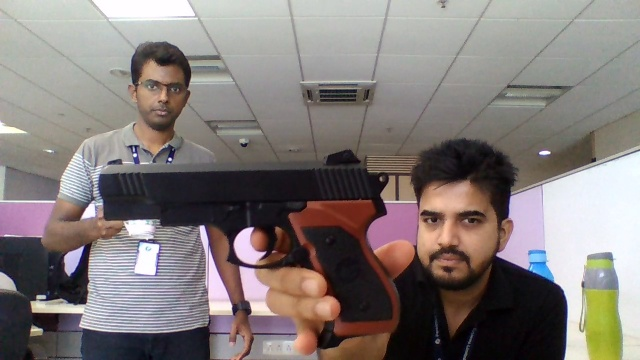gun: (97, 158, 381, 257)
